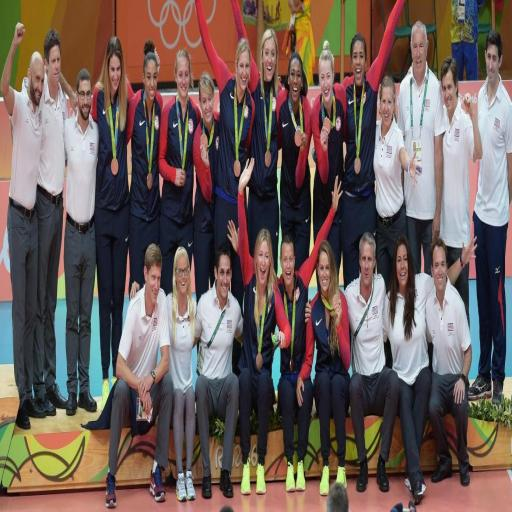person: (278, 177, 341, 491), (0, 23, 45, 429), (340, 0, 404, 284), (106, 245, 173, 507), (238, 159, 290, 494), (469, 30, 511, 403), (91, 37, 133, 403), (195, 0, 254, 250), (30, 29, 67, 415), (345, 233, 398, 491), (384, 236, 434, 504), (301, 241, 350, 495), (195, 243, 243, 498), (64, 69, 99, 415), (398, 22, 446, 273), (426, 239, 471, 486), (159, 49, 200, 293), (373, 76, 416, 287), (127, 40, 162, 289), (441, 57, 482, 266), (247, 29, 281, 272), (167, 247, 196, 501), (277, 53, 311, 269), (312, 41, 346, 238), (193, 72, 219, 303), (451, 0, 485, 80), (289, 0, 315, 85), (327, 483, 348, 511)
